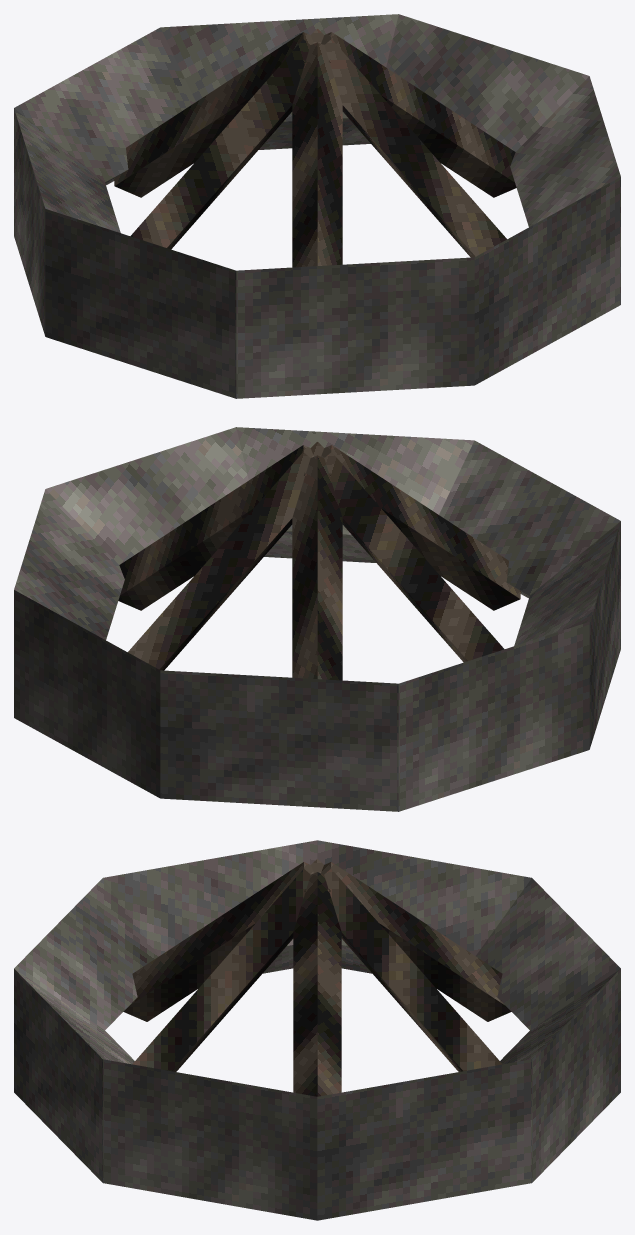
The model's file is ext_campfire.glb.
3 renders of one model, top to bottom at view 1: azimuth 30°, elevation 25°; view 2: azimuth 150°, elevation 25°; view 3: azimuth 270°, elevation 25°, orthographic. The views are drawn at different scales.
Parts seen in each view (by area): view 1: ext_campfire_mesh; view 2: ext_campfire_mesh; view 3: ext_campfire_mesh.
Boxes of the visible parts, <box> form: ext_campfire_mesh: <box>14,14,620,398</box>; ext_campfire_mesh: <box>14,427,620,811</box>; ext_campfire_mesh: <box>14,840,620,1220</box>.
Bounding box in the file's own units: 1 × 0.413 × 1.
Materials: 2 (2 with a texture image).
